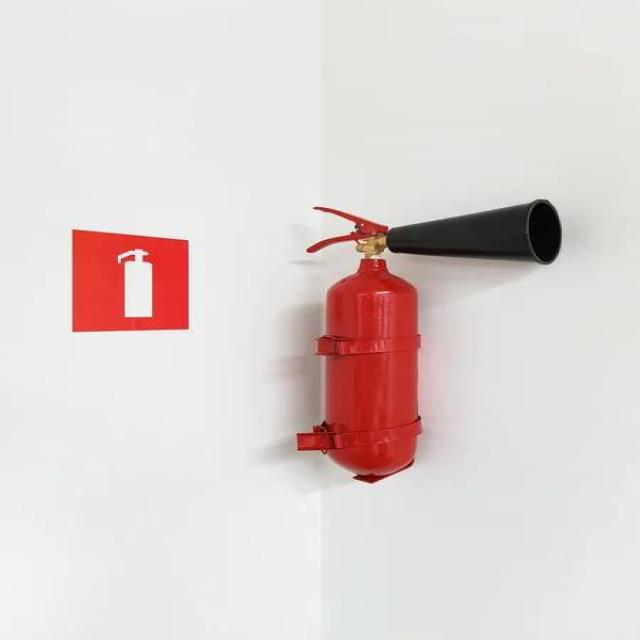fire_extinguisher: (294, 193, 568, 482)
